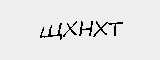Н: (78, 19, 93, 38)
Т: (107, 18, 125, 39)
Х: (62, 17, 78, 40), (92, 18, 109, 38)
Щ: (37, 21, 64, 41)
